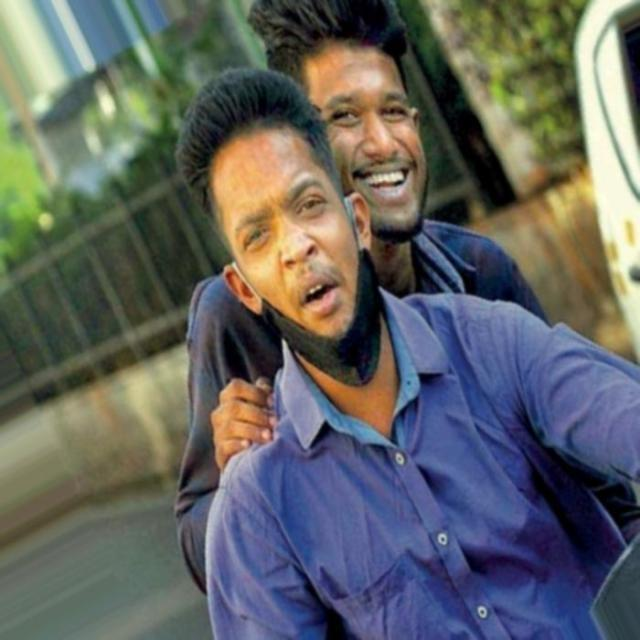hairnet: (226, 177, 384, 390)
